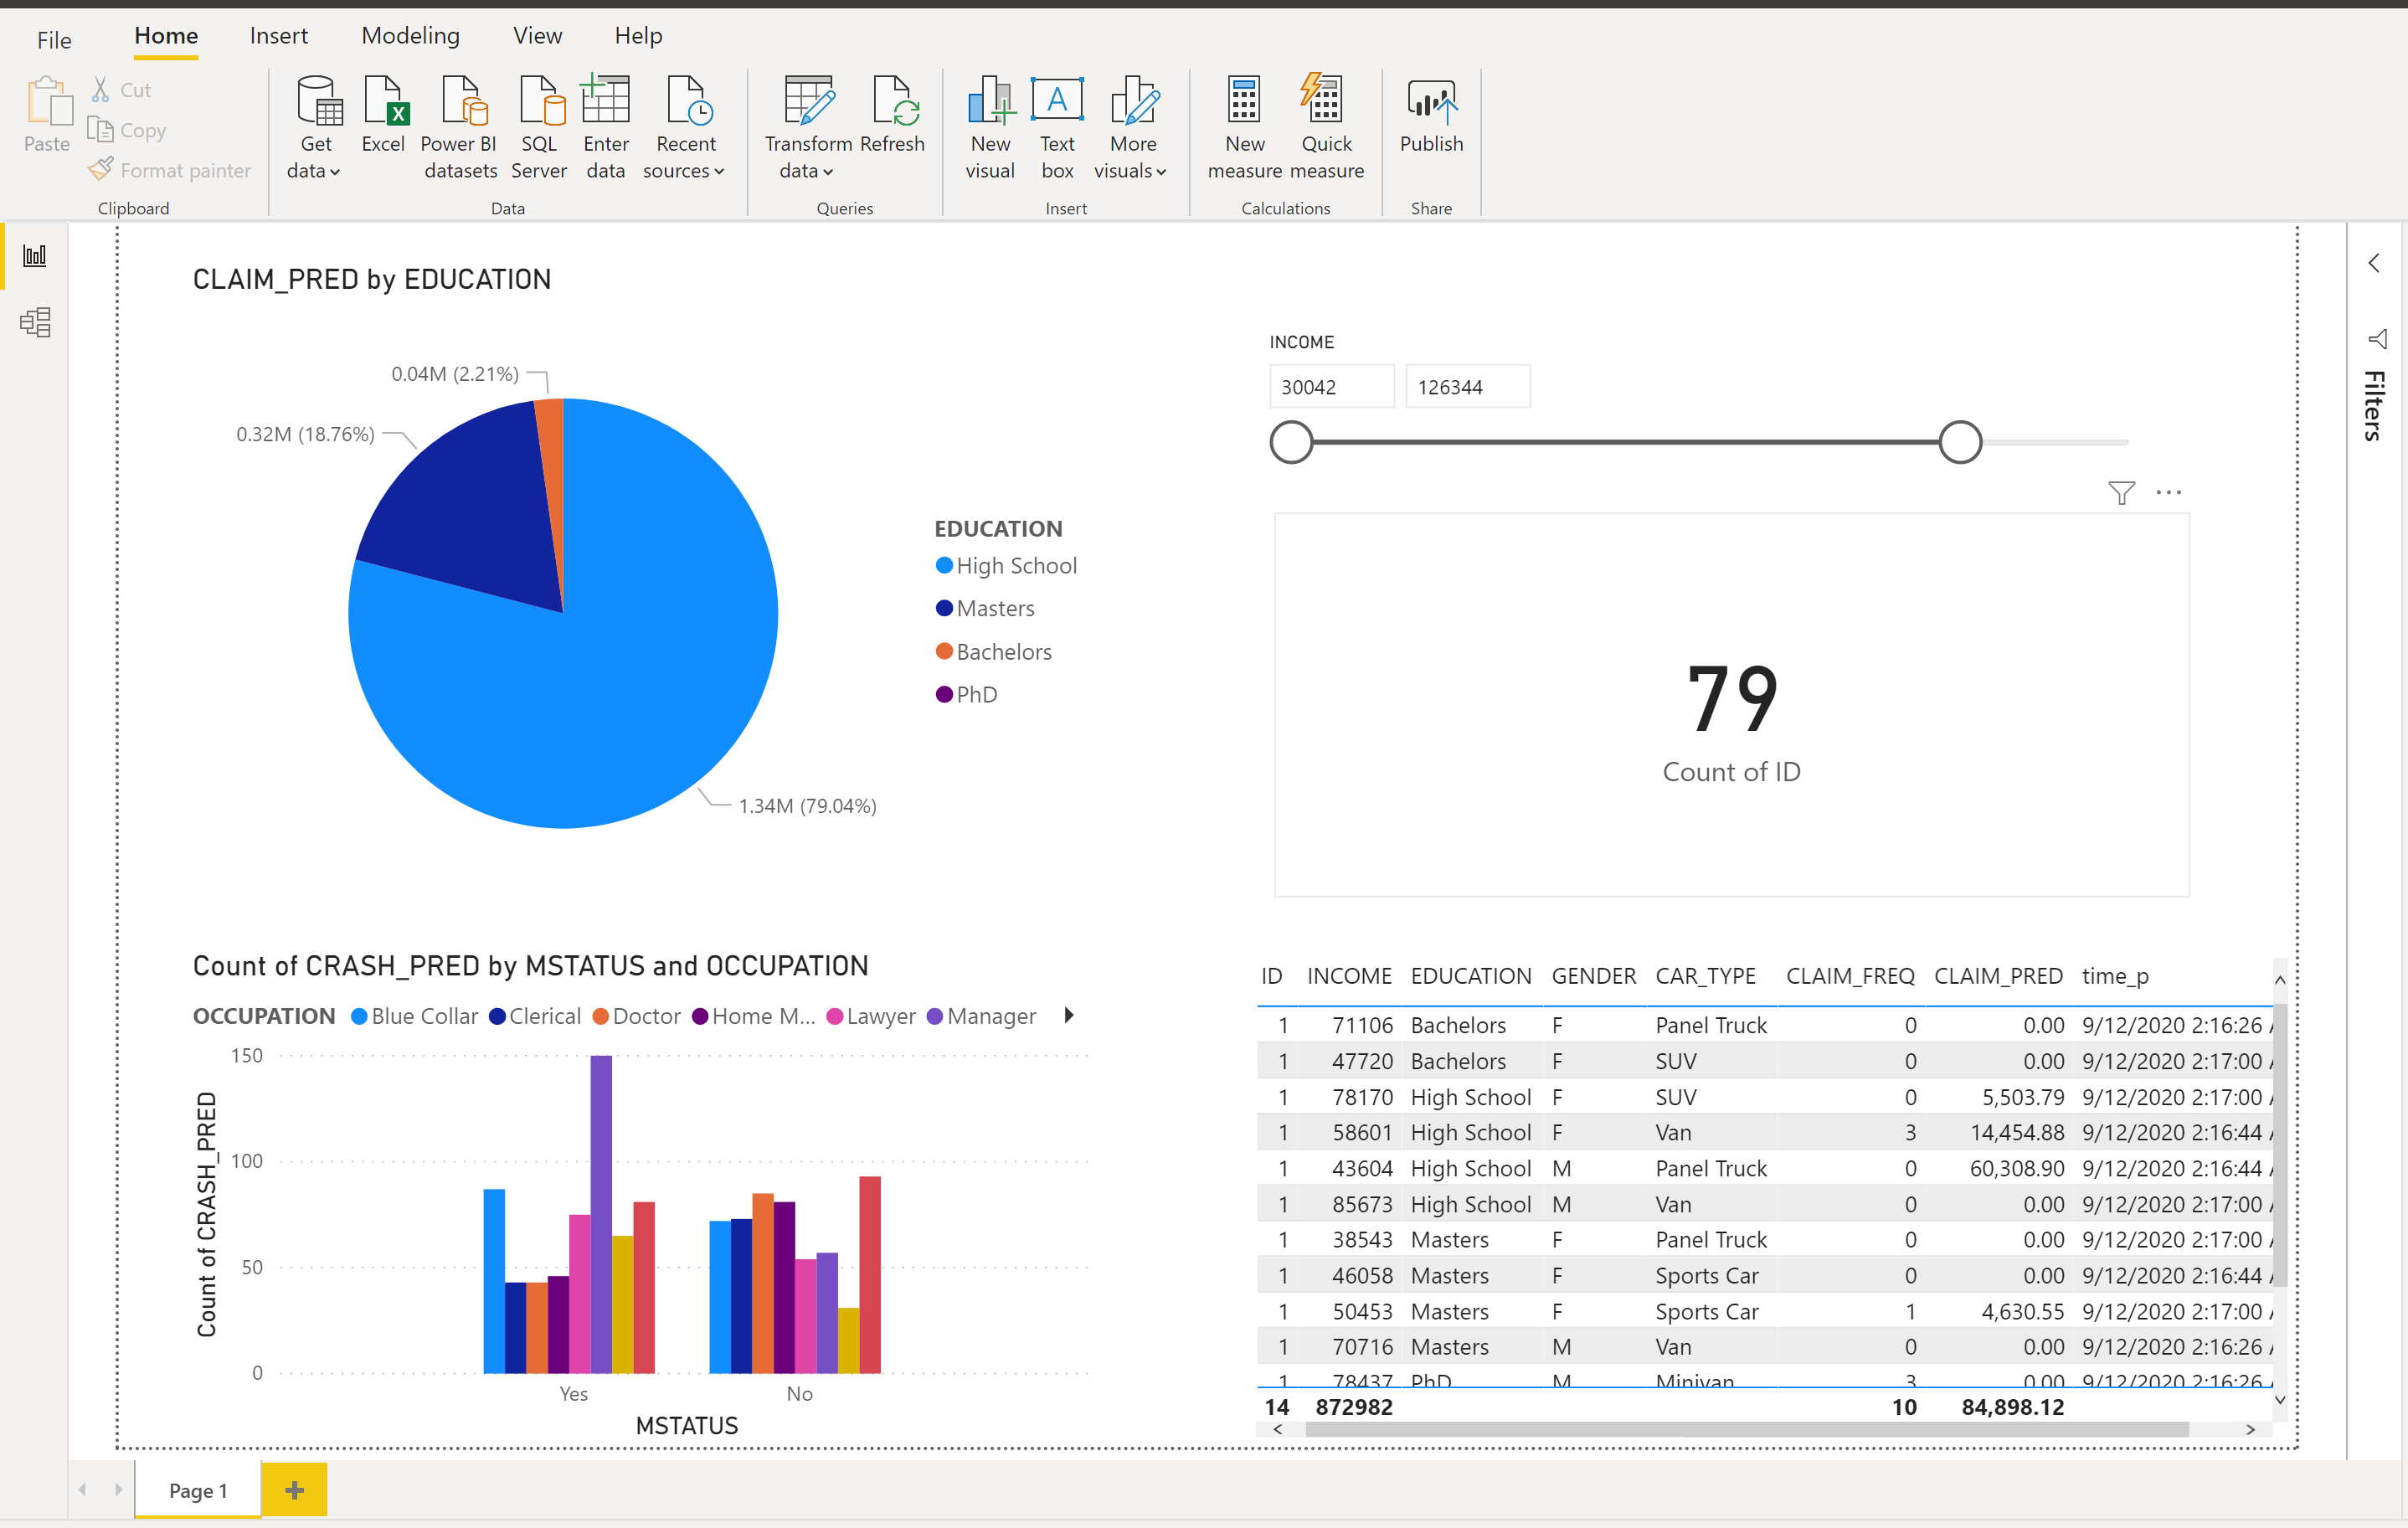

What the dashboard file says about the page in this screenshot:
{"tool":"powerbi","page":{"name":"Page 1","canvas":[1280,720],"ordinal":0},"visuals":[{"type":"pieChart","fields":{"Y":["Sum(UserData (2).CLAIM_PRED)"],"Series":["UserData (2).EDUCATION"]},"box":[38.5,24.1,540.2,393.4],"z":0},{"type":"slicer","fields":{"Values":["UserData.INCOME"]},"box":[664.1,58.9,538.9,131.1],"z":1000},{"type":"clusteredColumnChart","fields":{"Category":["UserData.MSTATUS"],"Y":["CountNonNull(UserData.CRASH_PRED)"],"Series":["UserData.OCCUPATION"]},"box":[38.6,427.1,540,292.9],"z":2000},{"type":"card","fields":{"Values":["Count(UserData.ID)"]},"box":[680,170,538.6,227.1],"z":3000},{"type":"tableEx","fields":{"Values":["CountNonNull(UserData.ID)","Sum(UserData.INCOME)","UserData.EDUCATION","UserData.GENDER","UserData.CAR_TYPE","Sum(UserData.CLAIM_FREQ)","Sum(UserData.CLAIM_PRED)","UserData.time_p"]},"box":[664.2,427.6,617.2,292.2],"z":4000}]}

Visuals, with their boxes on the page's 1280x720 design canvas (x1, y1, x2, y2). These are canvas units, not pixel positions in the 2408x1528 screenshot, which may show the page scaled, cropped or inside an application window:
pieChart - Sum(UserData (2).CLAIM_PRED) x UserData (2).EDUCATION: [38, 24, 579, 418]
slicer - UserData.INCOME: [664, 59, 1203, 190]
clusteredColumnChart - UserData.MSTATUS x CountNonNull(UserData.CRASH_PRED): [39, 427, 579, 720]
card - Count(UserData.ID): [680, 170, 1219, 397]
tableEx - CountNonNull(UserData.ID) x Sum(UserData.INCOME): [664, 428, 1281, 720]
